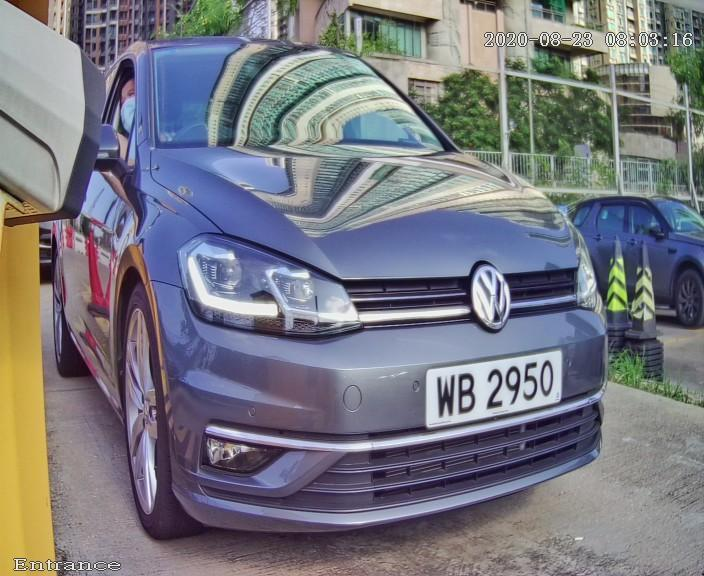Car: (13, 6, 673, 569)
License Plate: (422, 348, 569, 433)
